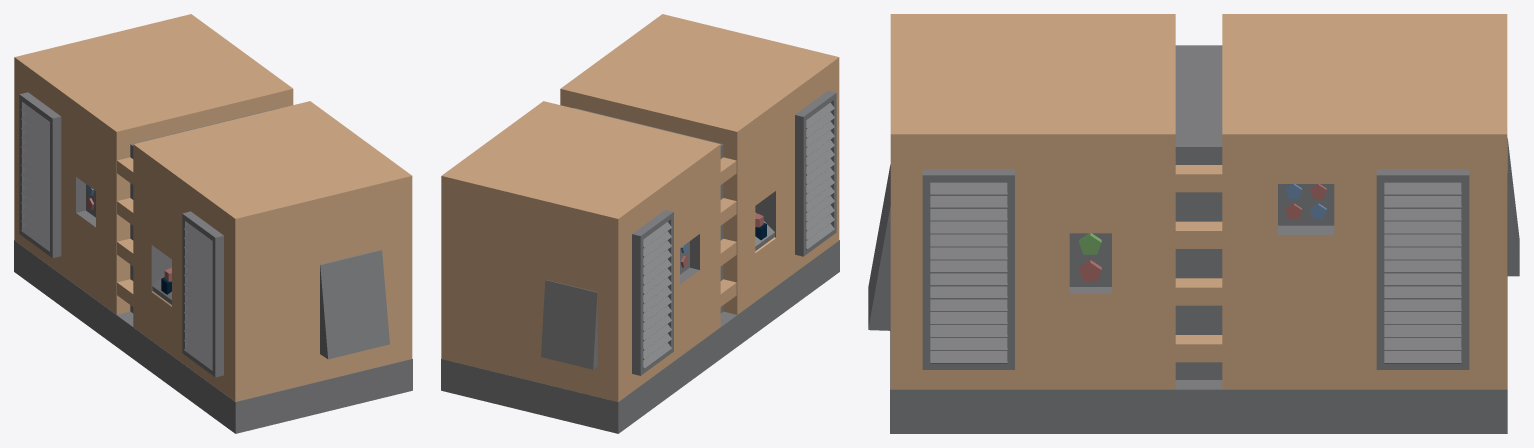
The model's file is O_Environment_Generator.fbx.
3 renders of one model, left to right at view 1: azimuth 30°, elevation 25°; view 2: azimuth 150°, elevation 25°; view 3: azimuth 270°, elevation 25°, orthographic. The views are drawn at different scales.
Visible parts, largest first — view 1: Generator:pCube13; view 2: Generator:pCube13; view 3: Generator:pCube13.
Part boxes in pixels (<box>): Generator:pCube13: <box>14,14,412,433</box>; Generator:pCube13: <box>441,14,839,433</box>; Generator:pCube13: <box>868,14,1519,433</box>.
Bounding box in the file's own units: 1.77 × 1.85 × 3.65.
